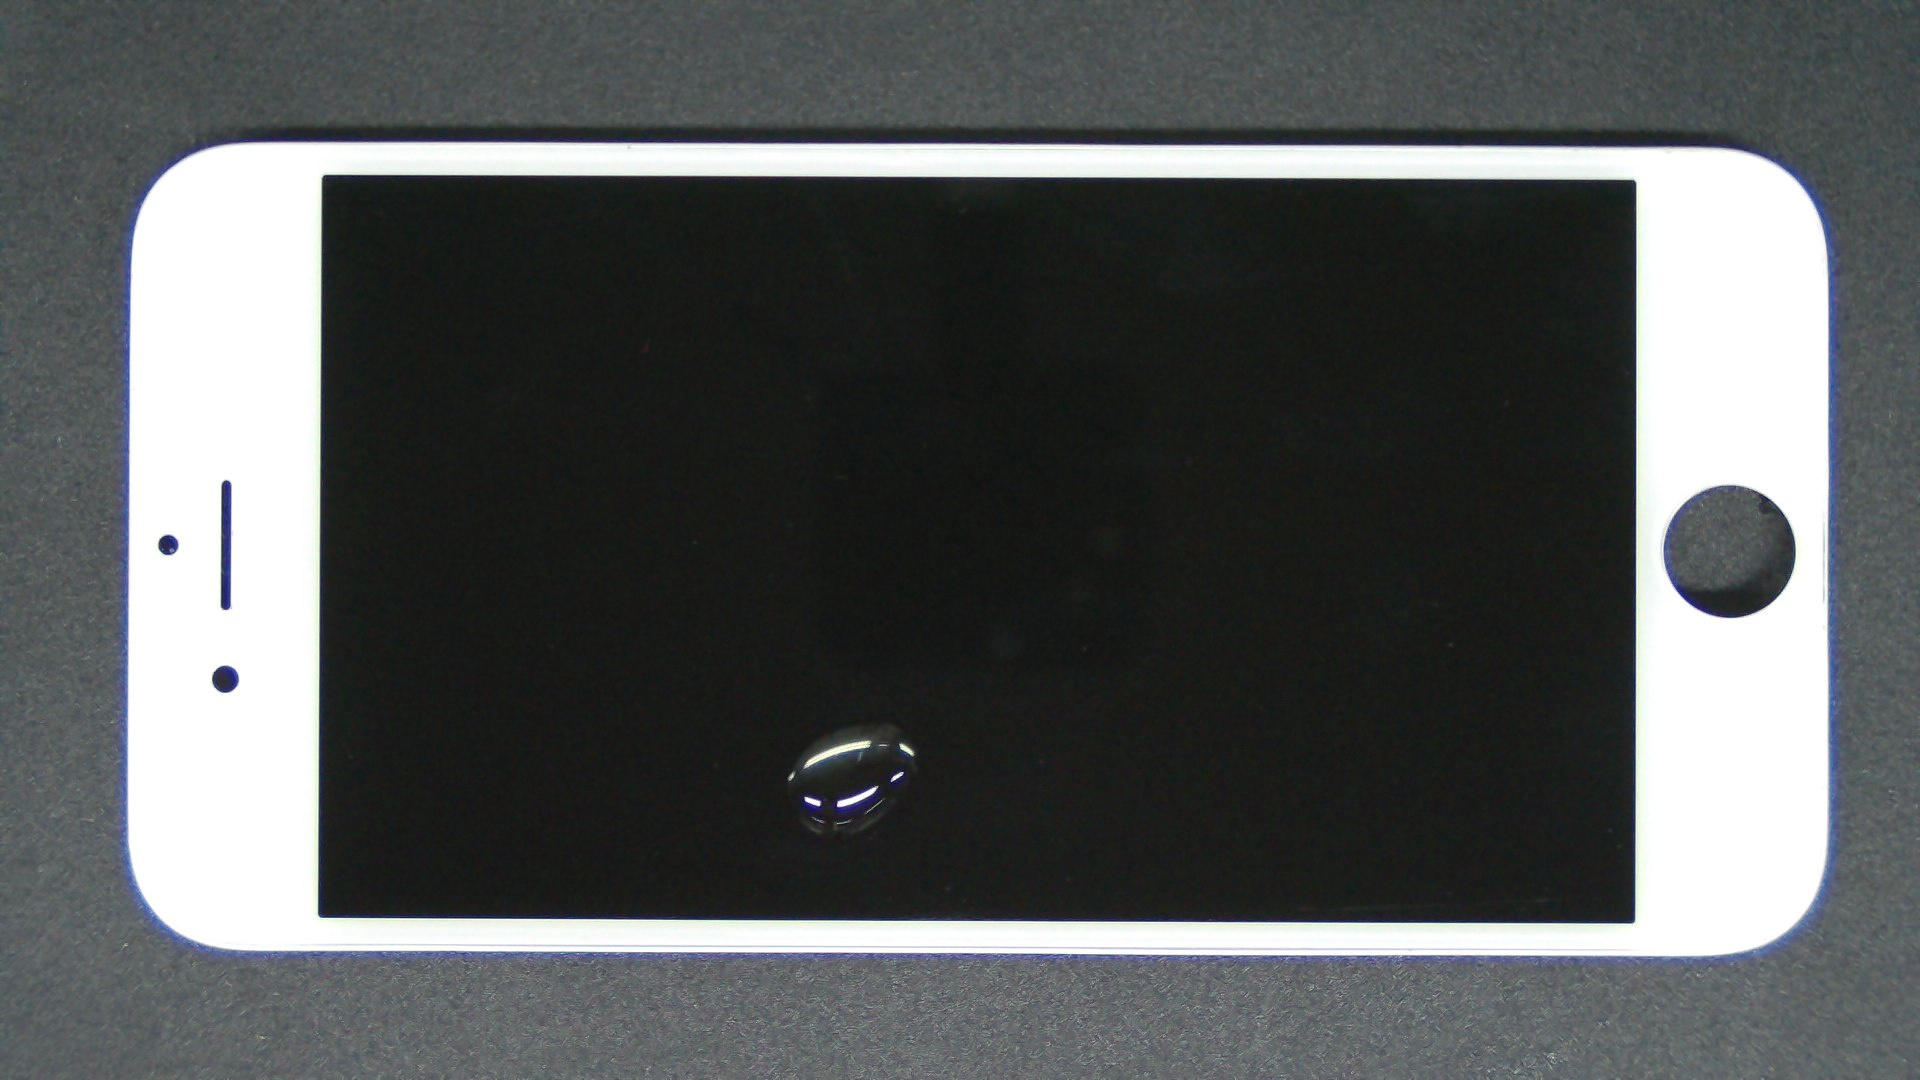oil: (448, 361, 1345, 1080)
